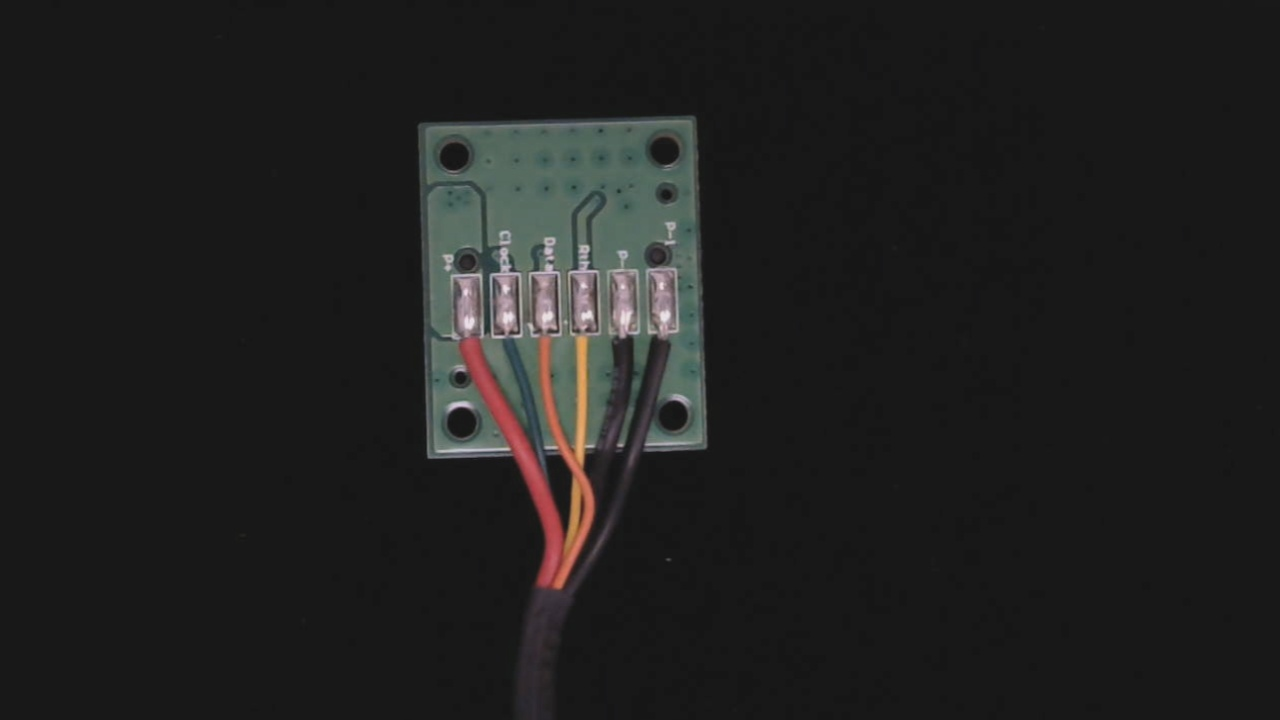Black: (624, 313, 655, 370)
Black1: (664, 313, 695, 377)
Green: (503, 312, 535, 375)
Orange: (542, 313, 574, 381)
Red: (462, 313, 496, 371)
Yellow: (584, 312, 614, 378)
